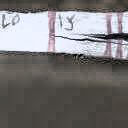crackTip: (50, 26, 128, 50)
